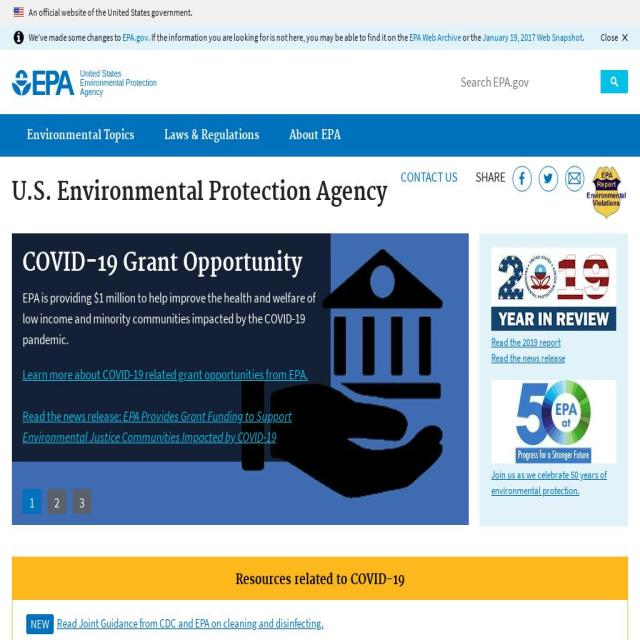button: (12, 113, 149, 157), (150, 113, 274, 157), (274, 113, 356, 157), (250, 0, 390, 25), (584, 163, 628, 227), (601, 69, 628, 93), (22, 489, 42, 515), (47, 489, 66, 515), (72, 489, 91, 515), (601, 30, 628, 45)
field: (453, 69, 628, 93)
heading: (12, 565, 510, 609), (12, 176, 387, 209), (22, 570, 616, 589), (22, 247, 320, 281), (12, 113, 122, 147), (12, 69, 75, 96)
image: (492, 248, 616, 332), (492, 380, 616, 464), (584, 163, 628, 221)
link: (22, 406, 292, 446), (23, 364, 308, 384), (57, 615, 324, 632), (491, 468, 607, 498), (482, 31, 582, 43), (491, 351, 565, 366), (491, 335, 561, 350), (401, 168, 458, 186), (409, 31, 462, 43), (123, 31, 148, 43)
text: (22, 287, 320, 350), (29, 5, 590, 20), (12, 68, 162, 97), (148, 31, 410, 43), (23, 406, 123, 425), (28, 31, 122, 43), (475, 163, 506, 191), (462, 31, 482, 43), (582, 31, 584, 43)
